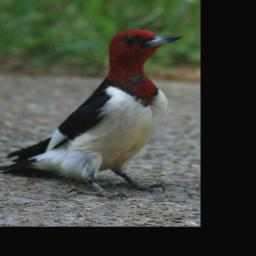Woodpecker: (0, 28, 189, 199)
